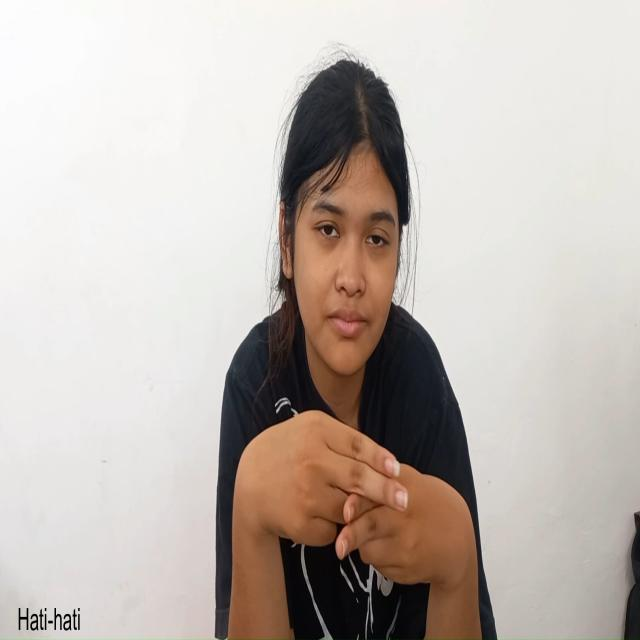Hati-hati -BISINDO-: (231, 407, 481, 609)
